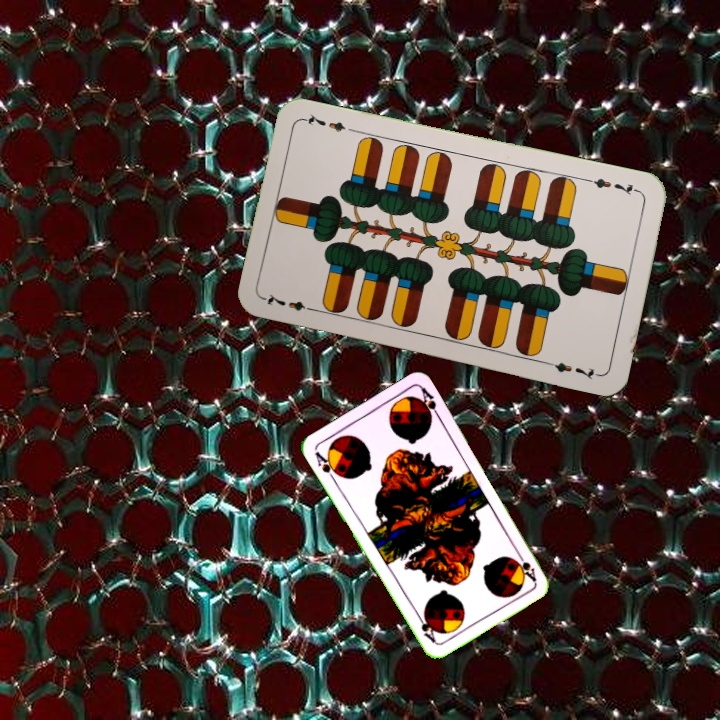E7: (261, 289, 320, 315), (583, 174, 642, 198)
SA: (310, 447, 343, 484), (512, 546, 539, 584)
